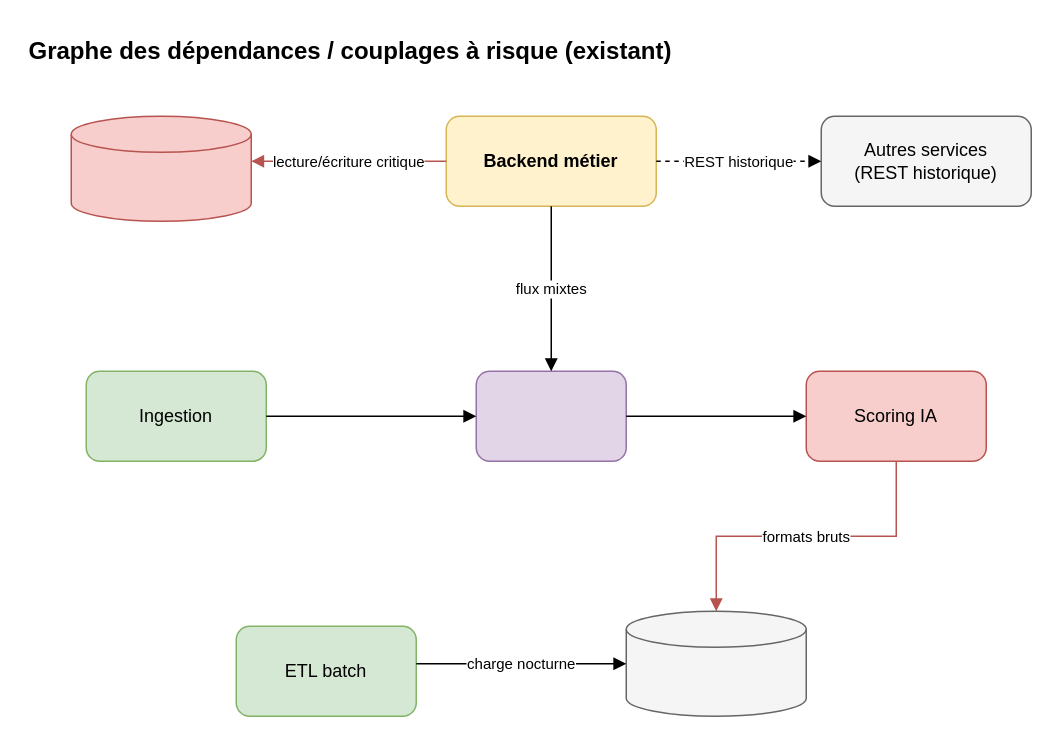
Some shapes in this 1058 by 743 pixel diagram are drawn without their labels. Each missing label, with the centre of its shape:
Data Lake: pixel 715 663
Kafka: pixel 550 415
PostgreSQL: pixel 160 168
